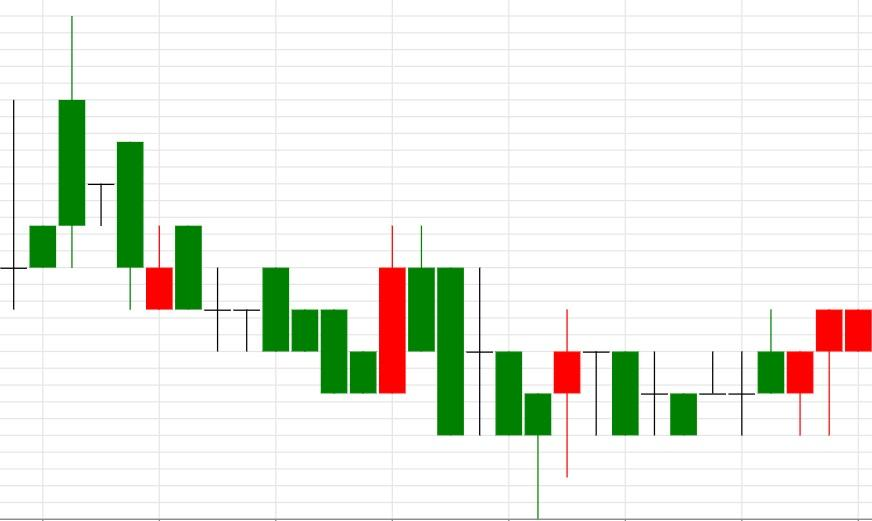bullish_engulfing_rise: (174, 225, 407, 395)
hammer_rise: (378, 225, 552, 519)
